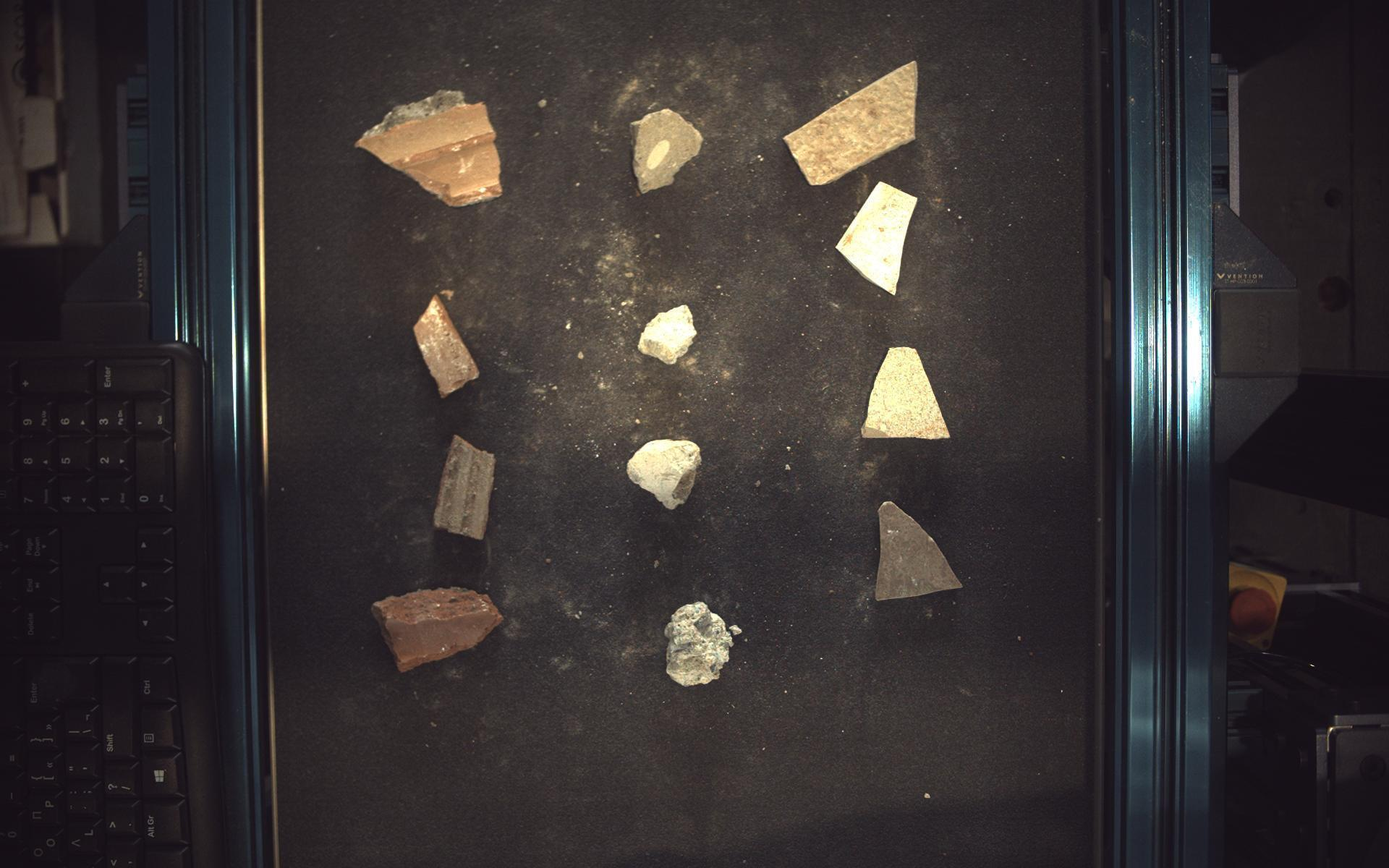brick: (357, 89, 502, 205), (371, 587, 503, 673), (414, 295, 479, 398), (433, 436, 496, 540)
concrete: (666, 603, 743, 687), (633, 108, 703, 193), (629, 440, 702, 510), (639, 305, 698, 365)
tile: (785, 59, 919, 184), (838, 181, 919, 294), (877, 502, 964, 601), (863, 346, 952, 439)
